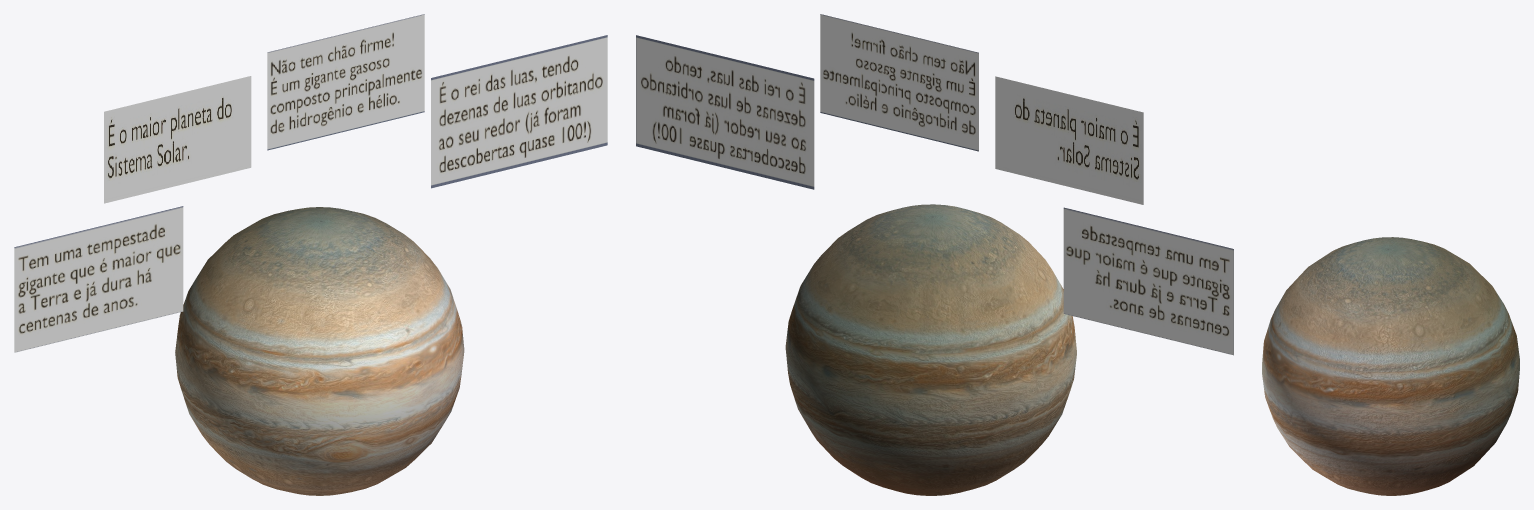
Rendered from jupiter.glb.
The picture shows the model from 3 angles, left to right: view 1: azimuth 30°, elevation 25°; view 2: azimuth 150°, elevation 25°; view 3: azimuth 270°, elevation 25°; orthographic projection. The views are drawn at different scales.
Visible parts, largest first — view 1: Terra.005, Plane.026, Plane.027, Plane.025, Plane.024; view 2: Terra.005, Plane.026, Plane.027, Plane.025, Plane.024; view 3: Terra.005.
Boxes of the visible parts, x1=… form: Terra.005: x1=175, y1=207, x2=464, y2=495; Plane.026: x1=431, y1=35, x2=607, y2=188; Plane.027: x1=14, y1=206, x2=183, y2=352; Plane.025: x1=267, y1=14, x2=424, y2=150; Plane.024: x1=104, y1=76, x2=251, y2=203; Terra.005: x1=785, y1=204, x2=1076, y2=495; Plane.026: x1=636, y1=35, x2=814, y2=189; Plane.027: x1=1063, y1=207, x2=1233, y2=355; Plane.025: x1=820, y1=14, x2=978, y2=151; Plane.024: x1=995, y1=76, x2=1143, y2=204; Terra.005: x1=1262, y1=237, x2=1519, y2=495.
Bounding box in the file's own units: 3.09 × 2.19 × 1.3.
Materials: 2 (2 with a texture image).
